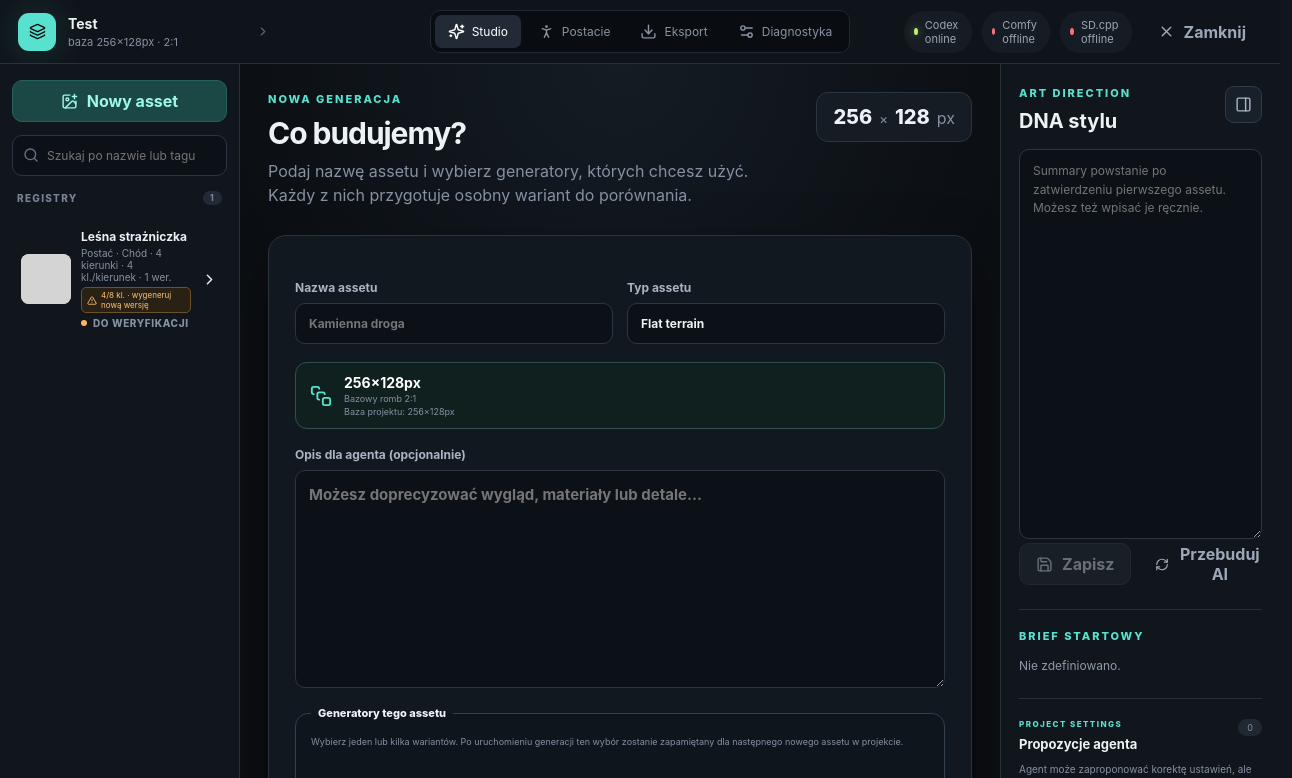
Scenario: otwiera asset postaci w sekcji Postacie z animacją i zaliczoną analizą
Step 1. Click the button "Leśna strażniczka" → point(120, 279), box top-left (12, 220), bottom-right (227, 338)
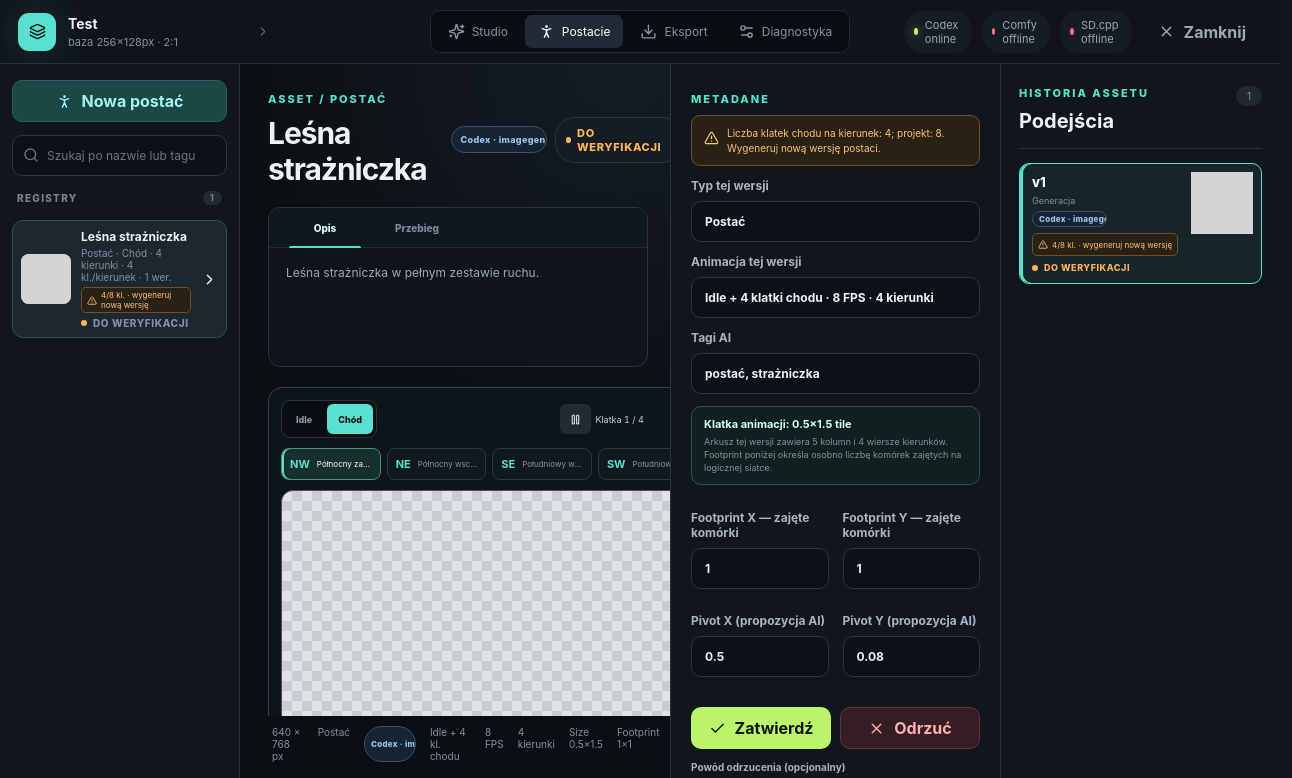
Expected: the element named "Podgląd animacji postaci" is shown, top-left (268, 387), bottom-right (710, 716)
Step 2. Click the button "Studio" → point(478, 32), box top-left (435, 15), bottom-right (521, 48)
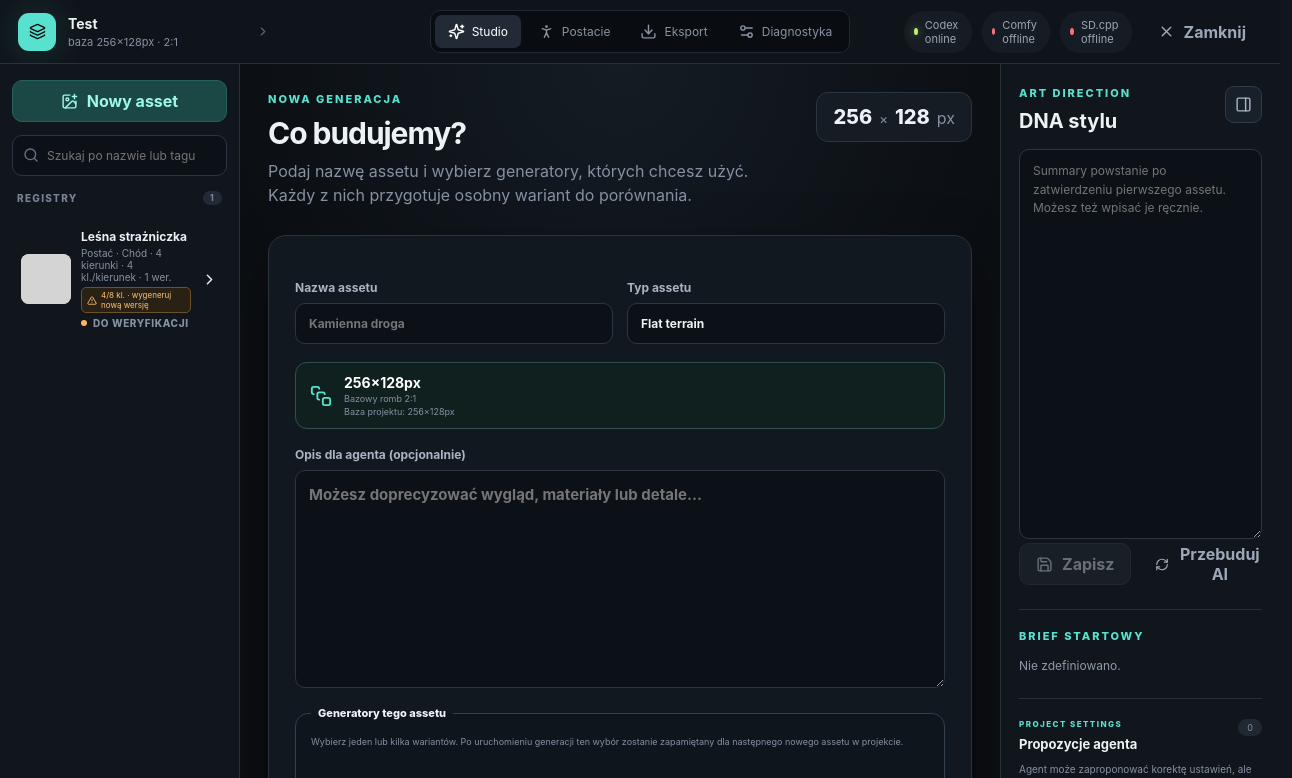
Expected: the heading "Co budujemy?" is shown, top-left (268, 115), bottom-right (466, 151)
